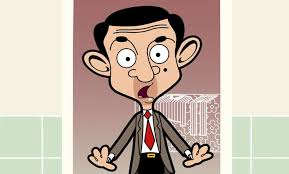mrbean: (82, 6, 214, 174)
